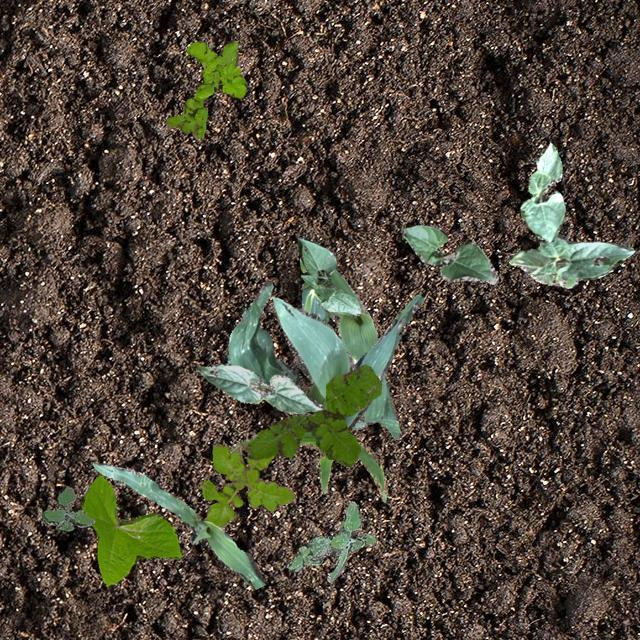crop: (227, 281, 422, 428), (92, 462, 264, 588), (299, 258, 401, 438), (226, 431, 386, 502), (80, 474, 180, 586), (508, 234, 634, 288), (196, 364, 322, 414), (402, 224, 496, 284), (296, 236, 359, 314), (520, 142, 564, 242)
weed: (242, 364, 380, 466), (164, 39, 246, 138), (198, 442, 294, 526), (286, 501, 374, 582), (41, 486, 94, 530)
